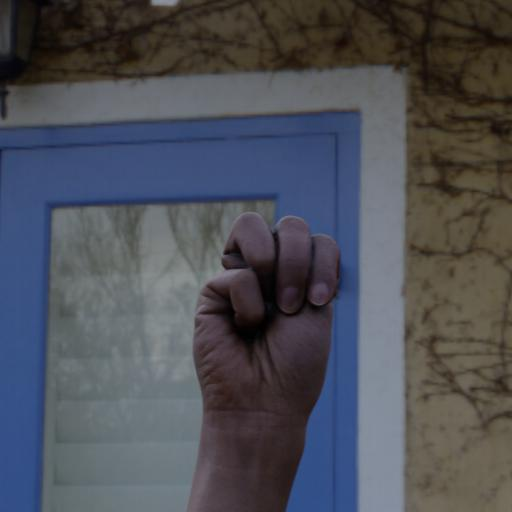M: (186, 199, 354, 449)
